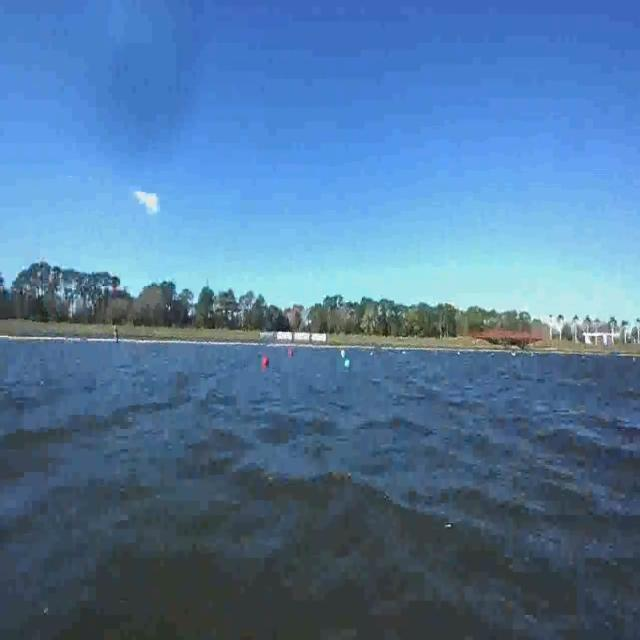green-buoy: (344, 359, 351, 371)
red-buoy: (265, 356, 270, 367), (289, 347, 293, 358)
